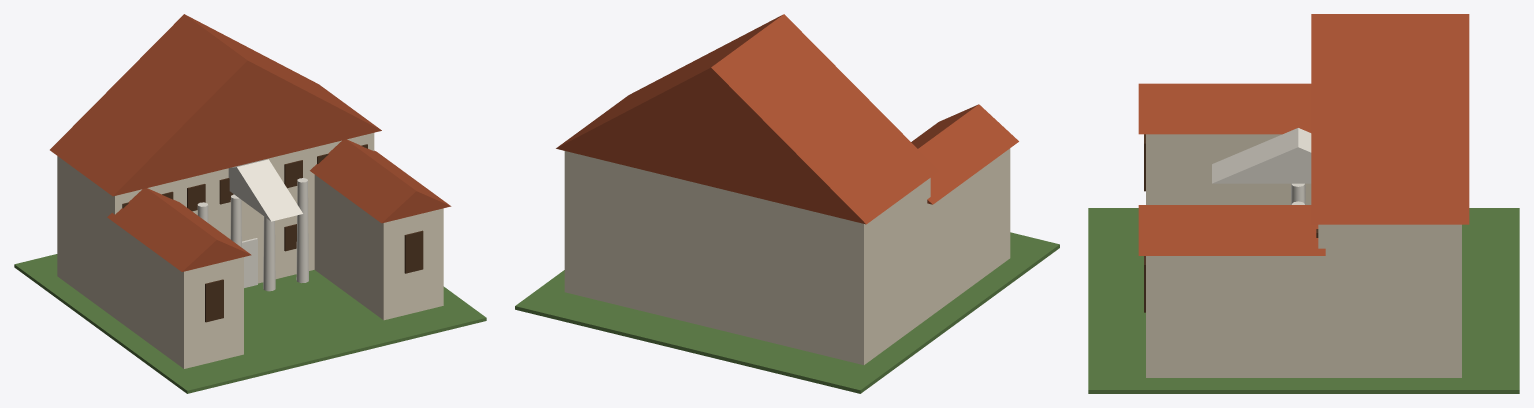
Rendered from bld_special_university_a02_lod1.glb.
3 views of the same model, side by side, from view 1: azimuth 30°, elevation 25°; view 2: azimuth 150°, elevation 25°; view 3: azimuth 270°, elevation 25° (orthographic). The views are drawn at different scales.
Parts seen in each view (by area): view 1: body; view 2: body; view 3: body.
Boxes of the visible parts, left/top/right/bottom form: body: left=14, top=14, right=486, bottom=393; body: left=515, top=14, right=1059, bottom=393; body: left=1088, top=14, right=1519, bottom=393.
Bounding box in the file's own units: 15 × 11.09 × 15.
